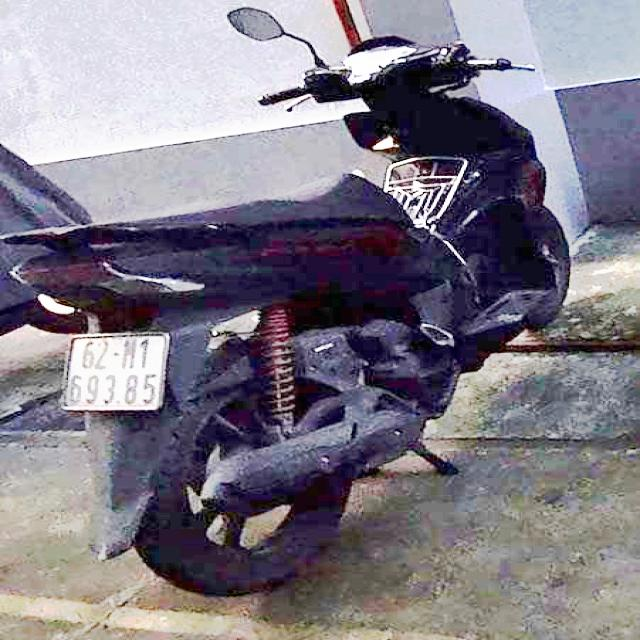license_plate: (59, 335, 169, 412)
